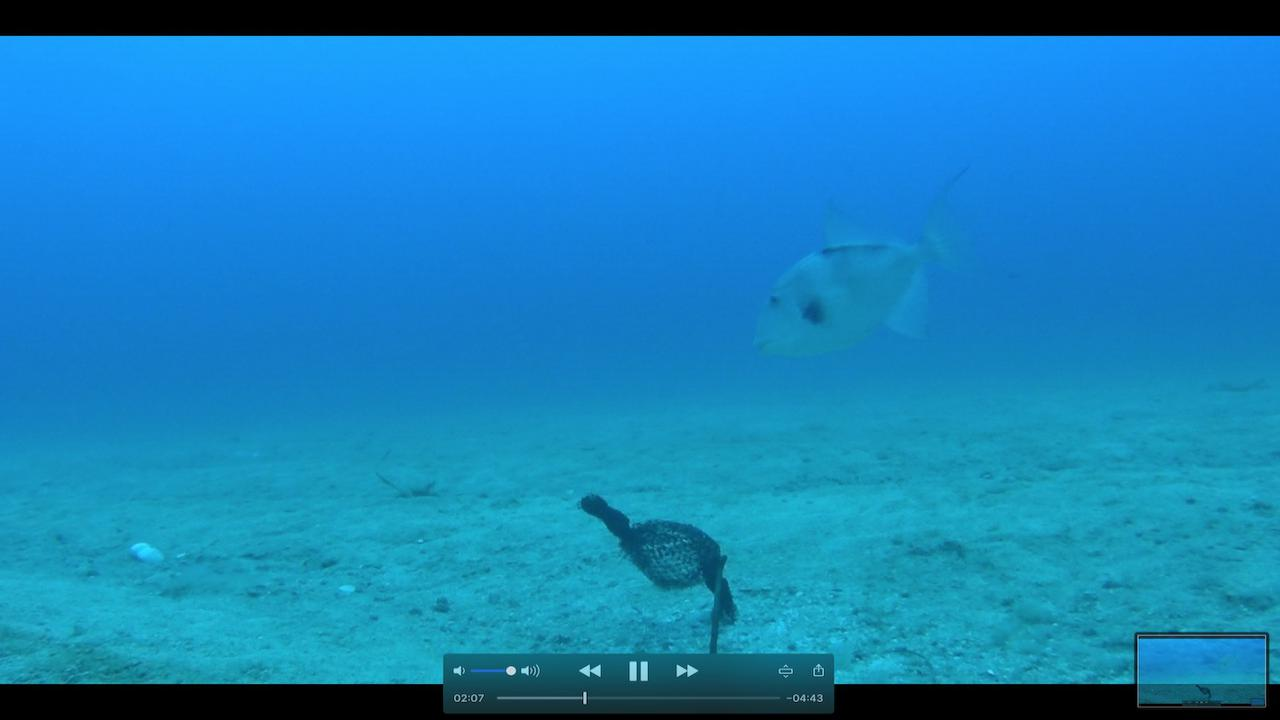balistes: (749, 155, 1042, 360)
